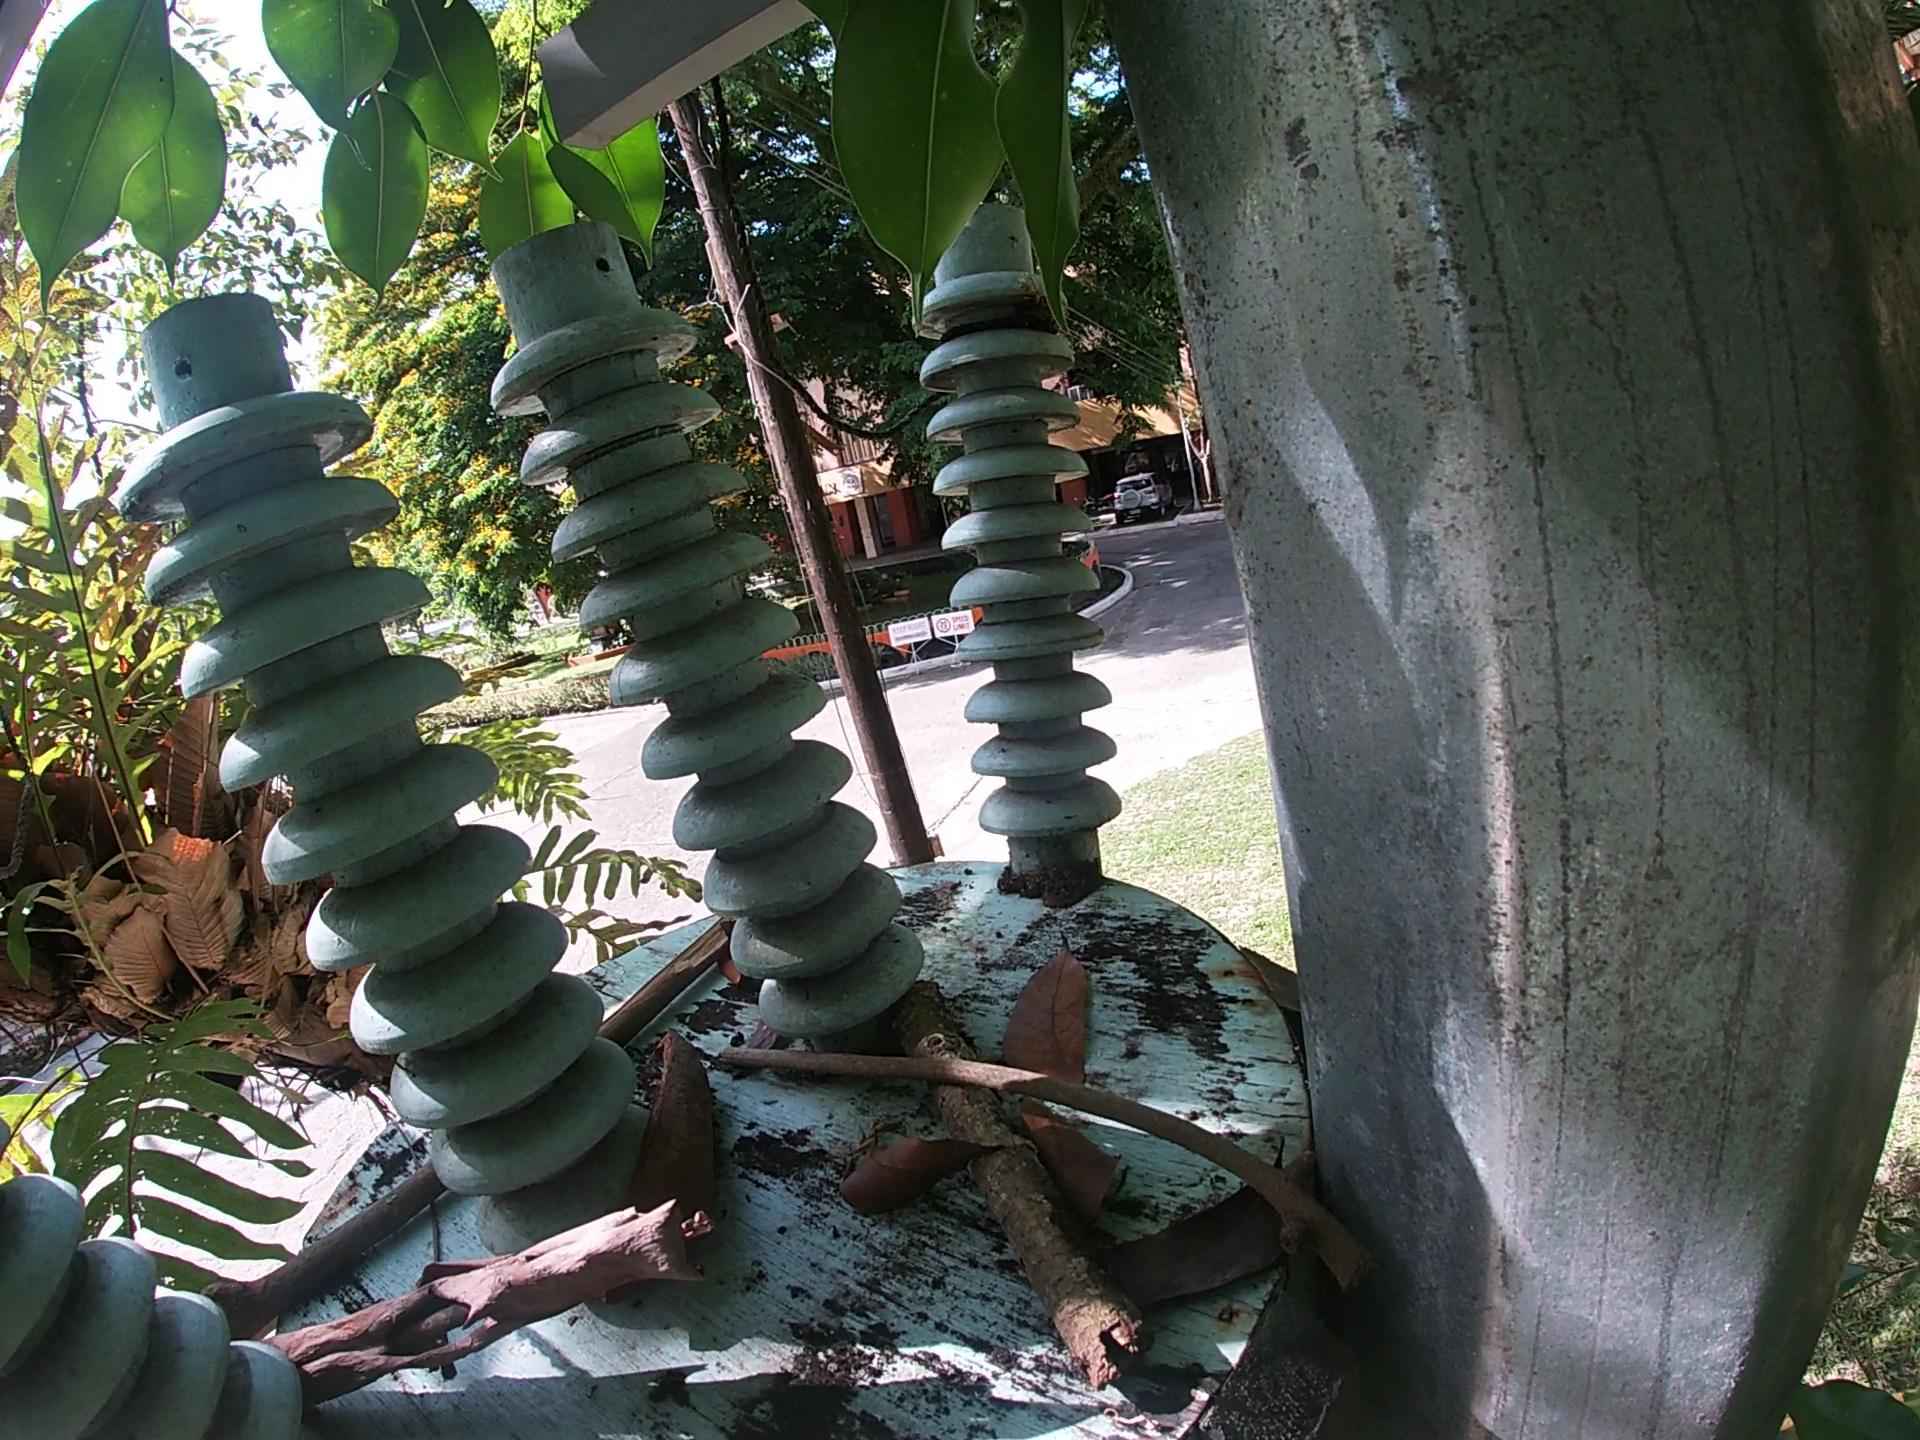leaf: (1098, 1133, 1303, 1311), (993, 926, 1101, 1098), (831, 1124, 998, 1228), (1014, 1095, 1123, 1231)
mahogany fruit: (623, 1030, 723, 1218)
tree branch: (721, 1038, 1389, 1302), (875, 968, 1158, 1387), (254, 1195, 729, 1410), (200, 1162, 454, 1342), (596, 921, 735, 1050)
